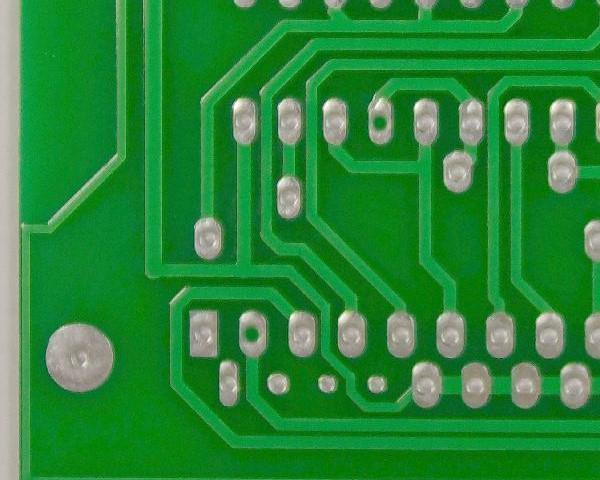missing hole: (361, 91, 400, 151), (234, 305, 274, 359)
